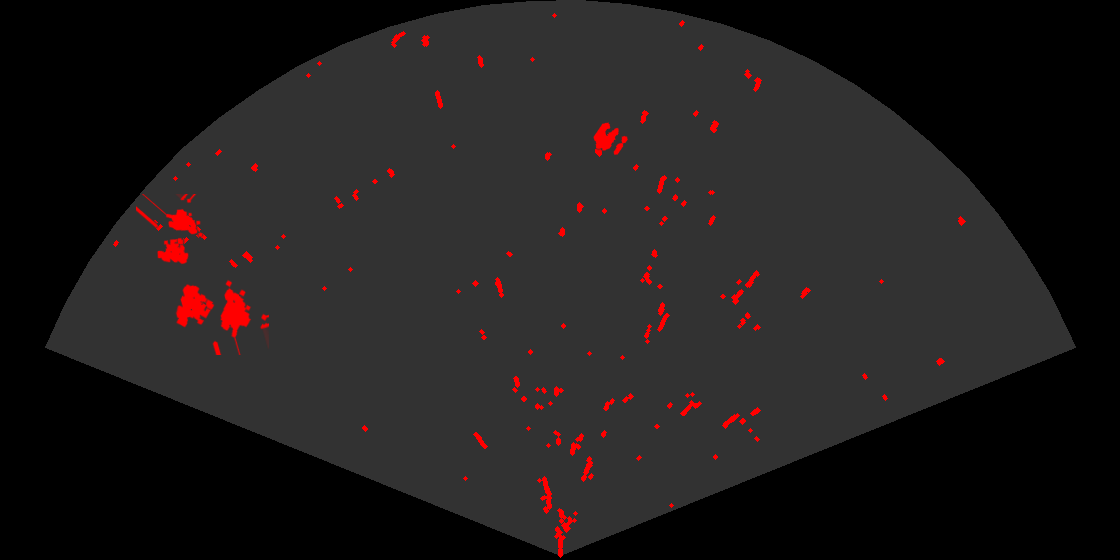ball: (592, 121, 629, 156)
cage: (174, 278, 269, 355), (136, 194, 204, 266)
